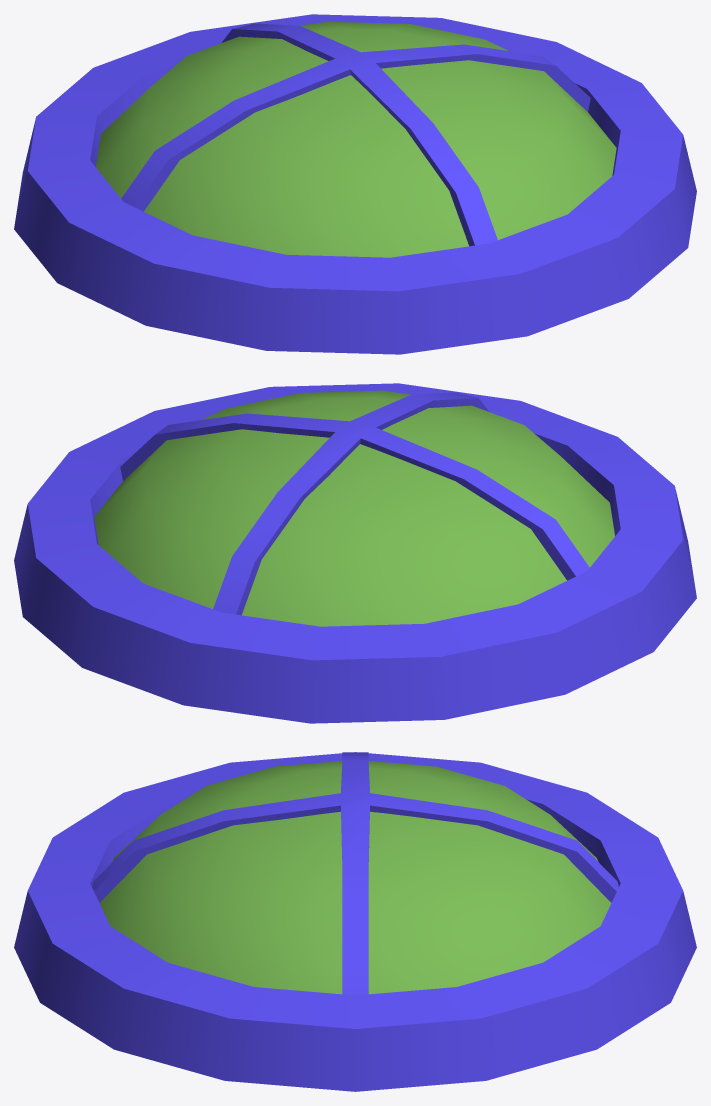
Rendered from Light_Wall_02.FBX.
The picture shows the model from 3 angles, top to bottom: view 1: azimuth 30°, elevation 25°; view 2: azimuth 150°, elevation 25°; view 3: azimuth 270°, elevation 25°; orthographic projection.
Parts seen in each view (by area): view 1: Light_Wall_02; view 2: Light_Wall_02; view 3: Light_Wall_02.
Part boxes in pixels (box(x1,y1,x2,y2)): Light_Wall_02: box(14, 14, 696, 354); Light_Wall_02: box(14, 383, 696, 723); Light_Wall_02: box(14, 752, 696, 1091).
Size of the model in its own units: 0.523 by 0.1252 by 0.523.
